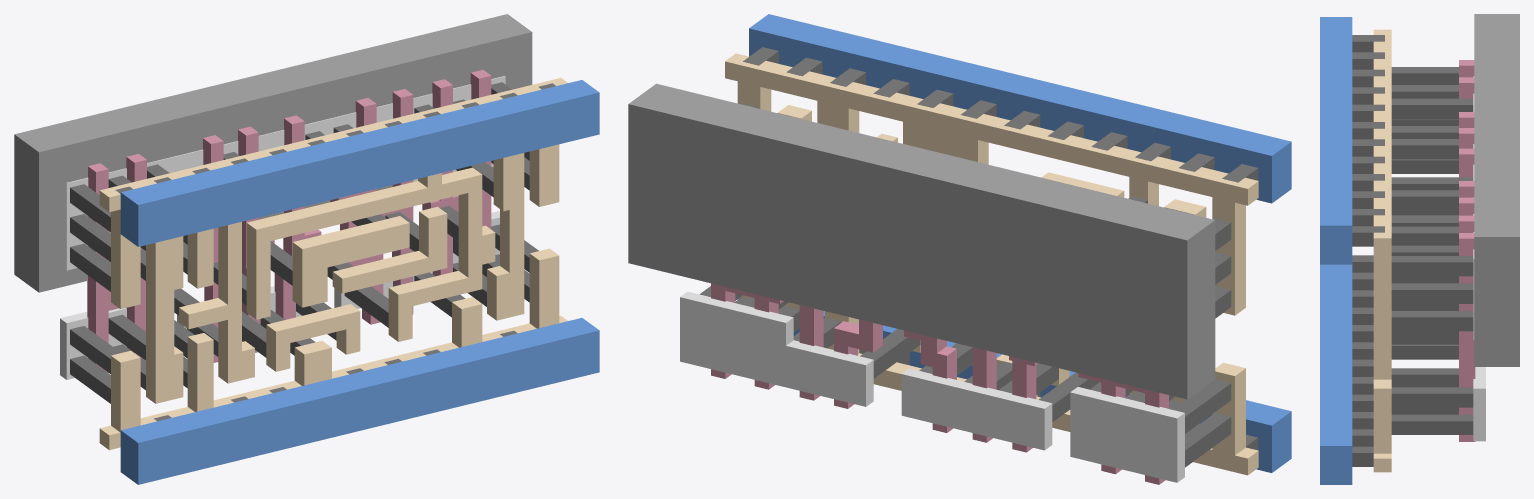
Rendered from sky130_fd_sc_hd__ha_2.gds.gltf.
The picture shows the model from 3 angles, left to right: view 1: azimuth 30°, elevation 25°; view 2: azimuth 150°, elevation 25°; view 3: azimuth 270°, elevation 25°; orthographic projection. The views are drawn at different scales.
Visible parts, largest first — view 1: sky130_fd_sc_hd__ha_2_li1, sky130_fd_sc_hd__ha_2_met1, sky130_fd_sc_hd__ha_2_nwell, sky130_fd_sc_hd__ha_2_licon, sky130_fd_sc_hd__ha_2_poly, sky130_fd_sc_hd__ha_2_diff, sky130_fd_sc_hd__ha_2_mcon; view 2: sky130_fd_sc_hd__ha_2_nwell, sky130_fd_sc_hd__ha_2_diff, sky130_fd_sc_hd__ha_2_li1, sky130_fd_sc_hd__ha_2_met1, sky130_fd_sc_hd__ha_2_licon, sky130_fd_sc_hd__ha_2_poly, sky130_fd_sc_hd__ha_2_mcon; view 3: sky130_fd_sc_hd__ha_2_licon, sky130_fd_sc_hd__ha_2_nwell, sky130_fd_sc_hd__ha_2_met1, sky130_fd_sc_hd__ha_2_mcon, sky130_fd_sc_hd__ha_2_li1, sky130_fd_sc_hd__ha_2_poly, sky130_fd_sc_hd__ha_2_diff.
Boxes of the visible parts, left/top/right/bottom form: sky130_fd_sc_hd__ha_2_li1: left=99, top=78, right=567, bottom=450; sky130_fd_sc_hd__ha_2_met1: left=120, top=80, right=599, bottom=484; sky130_fd_sc_hd__ha_2_nwell: left=14, top=14, right=532, bottom=292; sky130_fd_sc_hd__ha_2_licon: left=70, top=82, right=538, bottom=403; sky130_fd_sc_hd__ha_2_poly: left=87, top=70, right=491, bottom=372; sky130_fd_sc_hd__ha_2_diff: left=60, top=76, right=505, bottom=379; sky130_fd_sc_hd__ha_2_mcon: left=115, top=83, right=555, bottom=421; sky130_fd_sc_hd__ha_2_nwell: left=628, top=83, right=1215, bottom=399; sky130_fd_sc_hd__ha_2_diff: left=680, top=291, right=1184, bottom=482; sky130_fd_sc_hd__ha_2_li1: left=725, top=53, right=1258, bottom=475; sky130_fd_sc_hd__ha_2_met1: left=749, top=14, right=1291, bottom=472; sky130_fd_sc_hd__ha_2_licon: left=699, top=103, right=1231, bottom=467; sky130_fd_sc_hd__ha_2_poly: left=711, top=283, right=1168, bottom=484; sky130_fd_sc_hd__ha_2_mcon: left=743, top=47, right=1258, bottom=450; sky130_fd_sc_hd__ha_2_licon: left=1391, top=67, right=1473, bottom=434; sky130_fd_sc_hd__ha_2_nwell: left=1474, top=14, right=1519, bottom=366; sky130_fd_sc_hd__ha_2_met1: left=1320, top=17, right=1352, bottom=484; sky130_fd_sc_hd__ha_2_mcon: left=1352, top=35, right=1384, bottom=466; sky130_fd_sc_hd__ha_2_li1: left=1373, top=29, right=1391, bottom=472; sky130_fd_sc_hd__ha_2_poly: left=1459, top=60, right=1475, bottom=441; sky130_fd_sc_hd__ha_2_diff: left=1473, top=76, right=1485, bottom=441.
Bounding box in the file's own units: 5.9 × 3.2 × 2.24.
